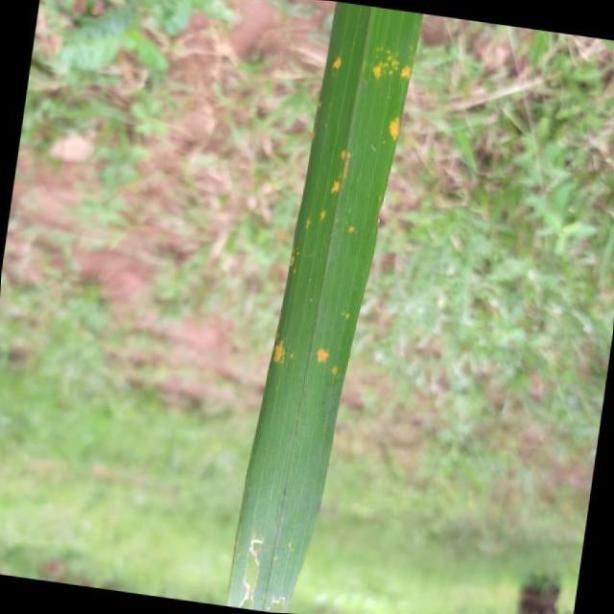Kalium: (224, 0, 422, 614)
